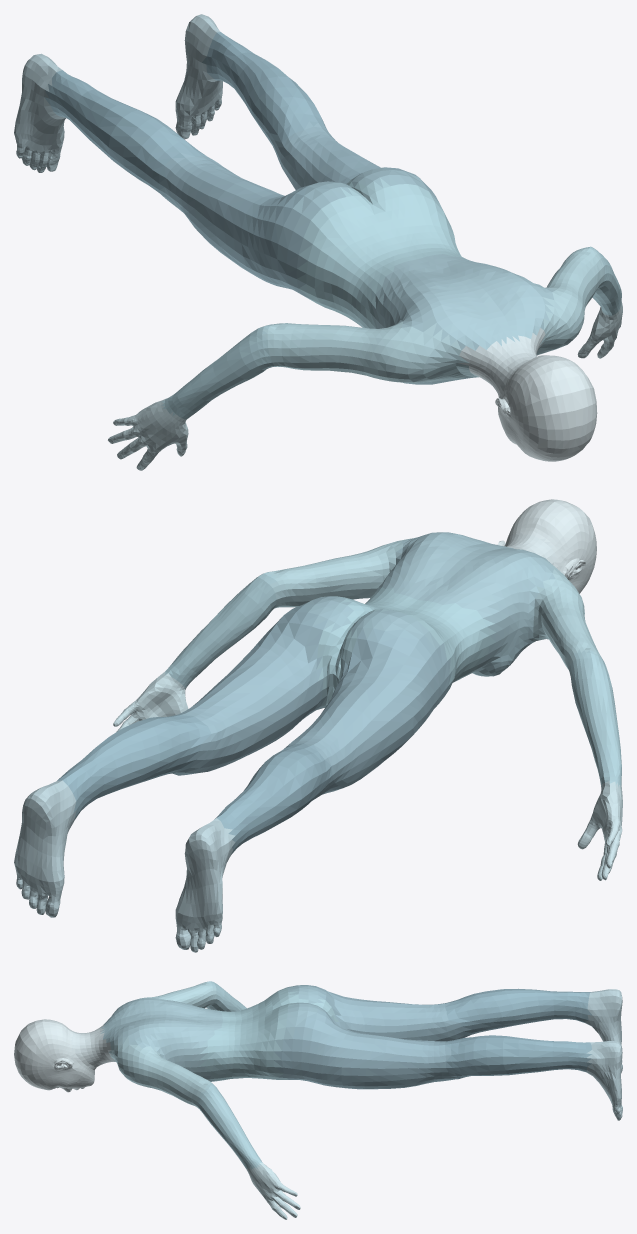
Rendered from crew_C9.glb.
3 renders of one model, top to bottom at view 1: azimuth 30°, elevation 25°; view 2: azimuth 150°, elevation 25°; view 3: azimuth 270°, elevation 25°, orthographic. The views are drawn at different scales.
Visible parts, largest first — view 1: chest, abdomen, right_thigh, right_upper_arm, head, right_lower_leg, left_lower_leg, right_foot, left_thigh, left_upper_arm, right_forearm, left_foot (+5 smaller); view 2: right_thigh, left_thigh, abdomen, left_lower_leg, chest, right_lower_leg, left_foot, right_foot, left_upper_arm, left_forearm, head, right_forearm (+5 smaller); view 3: left_thigh, chest, abdomen, left_lower_leg, right_lower_leg, right_thigh, head, left_upper_arm, left_forearm, left_foot, right_foot, left_hand (+4 smaller).
Boxes of the visible parts, box(x1,y1,x2,y2) form: chest: box(297, 176, 465, 328); abdomen: box(370, 254, 555, 384); right_thigh: box(159, 152, 313, 298); right_upper_arm: box(262, 321, 478, 383); head: box(495, 355, 597, 461); right_lower_leg: box(44, 70, 207, 196); left_lower_leg: box(202, 32, 327, 145); right_foot: box(14, 53, 65, 172); left_thigh: box(273, 121, 435, 195); left_upper_arm: box(536, 247, 604, 355); right_forearm: box(161, 324, 276, 419); left_foot: box(175, 14, 222, 139); right_thigh: box(284, 628, 452, 798); left_thigh: box(174, 605, 327, 775); abdomen: box(376, 532, 555, 677); left_lower_leg: box(57, 713, 211, 819); chest: box(316, 587, 495, 709); right_lower_leg: box(214, 743, 332, 854); left_foot: box(14, 780, 76, 917); right_foot: box(175, 818, 235, 952); left_upper_arm: box(267, 538, 412, 607); left_forearm: box(165, 572, 278, 688); head: box(497, 499, 596, 593); right_forearm: box(569, 649, 621, 787); left_thigh: box(274, 1007, 458, 1089); chest: box(198, 987, 339, 1081); abdomen: box(100, 998, 222, 1081); left_lower_leg: box(445, 1035, 591, 1078); right_lower_leg: box(445, 988, 592, 1037); right_thigh: box(308, 985, 471, 1041); head: box(14, 1019, 99, 1092); left_upper_arm: box(108, 1036, 212, 1106); left_forearm: box(196, 1082, 262, 1169); left_foot: box(586, 1041, 622, 1120); right_foot: box(584, 989, 622, 1073); left_hand: box(246, 1161, 300, 1219).
Size of the model in its own units: 1.02 by 0.4363 by 1.62.
